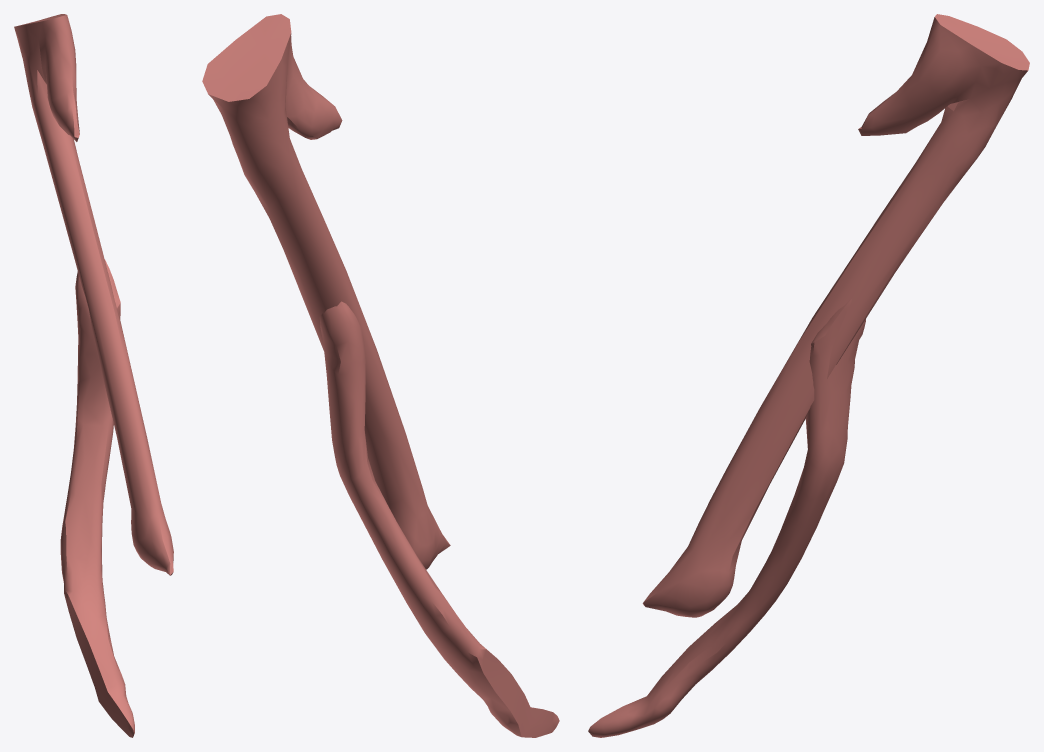
The model's file is fma39646_mm1955m.glb.
3 renders of one model, left to right at view 1: azimuth 30°, elevation 25°; view 2: azimuth 150°, elevation 25°; view 3: azimuth 270°, elevation 25°, orthographic. The views are drawn at different scales.
Visible parts, largest first — view 1: FMA39646_MM1955M; view 2: FMA39646_MM1955M; view 3: FMA39646_MM1955M.
Boxes of the visible parts, <box> form: FMA39646_MM1955M: <box>14,14,173,737</box>; FMA39646_MM1955M: <box>202,14,559,737</box>; FMA39646_MM1955M: <box>588,14,1029,737</box>.
Size of the model in its own units: 0.00848 by 0.0501 by 0.0264.
